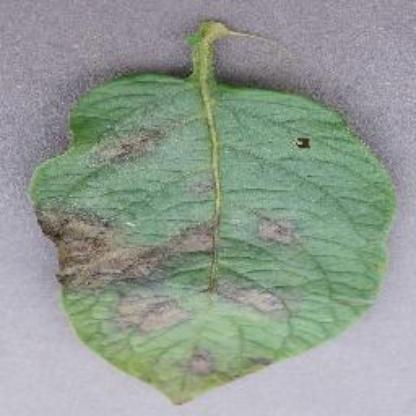Late-Blight: (20, 44, 412, 388)
